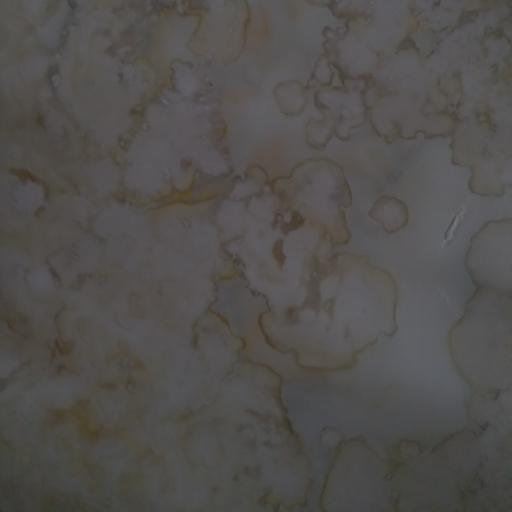algae: (0, 0, 426, 418)
